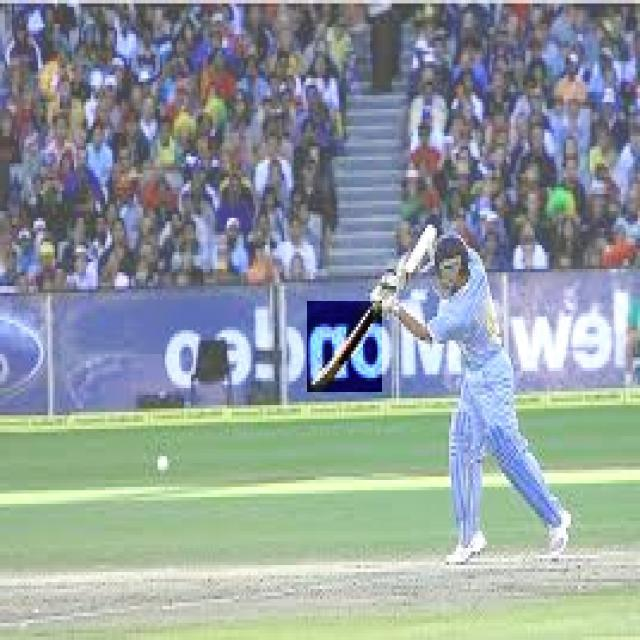bat: (310, 304, 376, 389)
toe: (300, 368, 327, 399)
